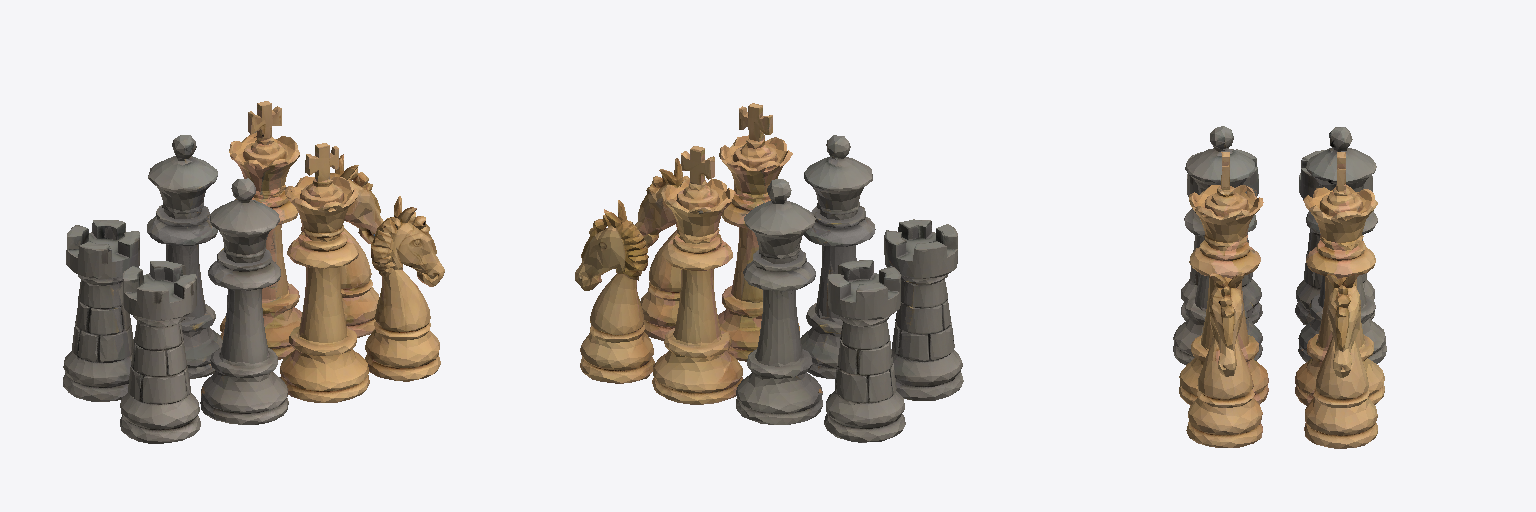
3 renders of one model, left to right at view 1: azimuth 30°, elevation 25°; view 2: azimuth 150°, elevation 25°; view 3: azimuth 270°, elevation 25°, orthographic.
Parts seen in each view (by area): view 1: so_we_want_to_make_a__[number redacted]_texture; view 2: so_we_want_to_make_a__[number redacted]_texture; view 3: so_we_want_to_make_a__[number redacted]_texture.
Boxes of the visible parts, box(x1,y1,x2,y2) form: so_we_want_to_make_a__[number redacted]_texture: box(63, 101, 444, 443); so_we_want_to_make_a__[number redacted]_texture: box(575, 103, 963, 442); so_we_want_to_make_a__[number redacted]_texture: box(1173, 126, 1386, 448).
Size of the model in its own units: 2 by 1.44 by 1.16.
Materials: 1 (1 with a texture image).